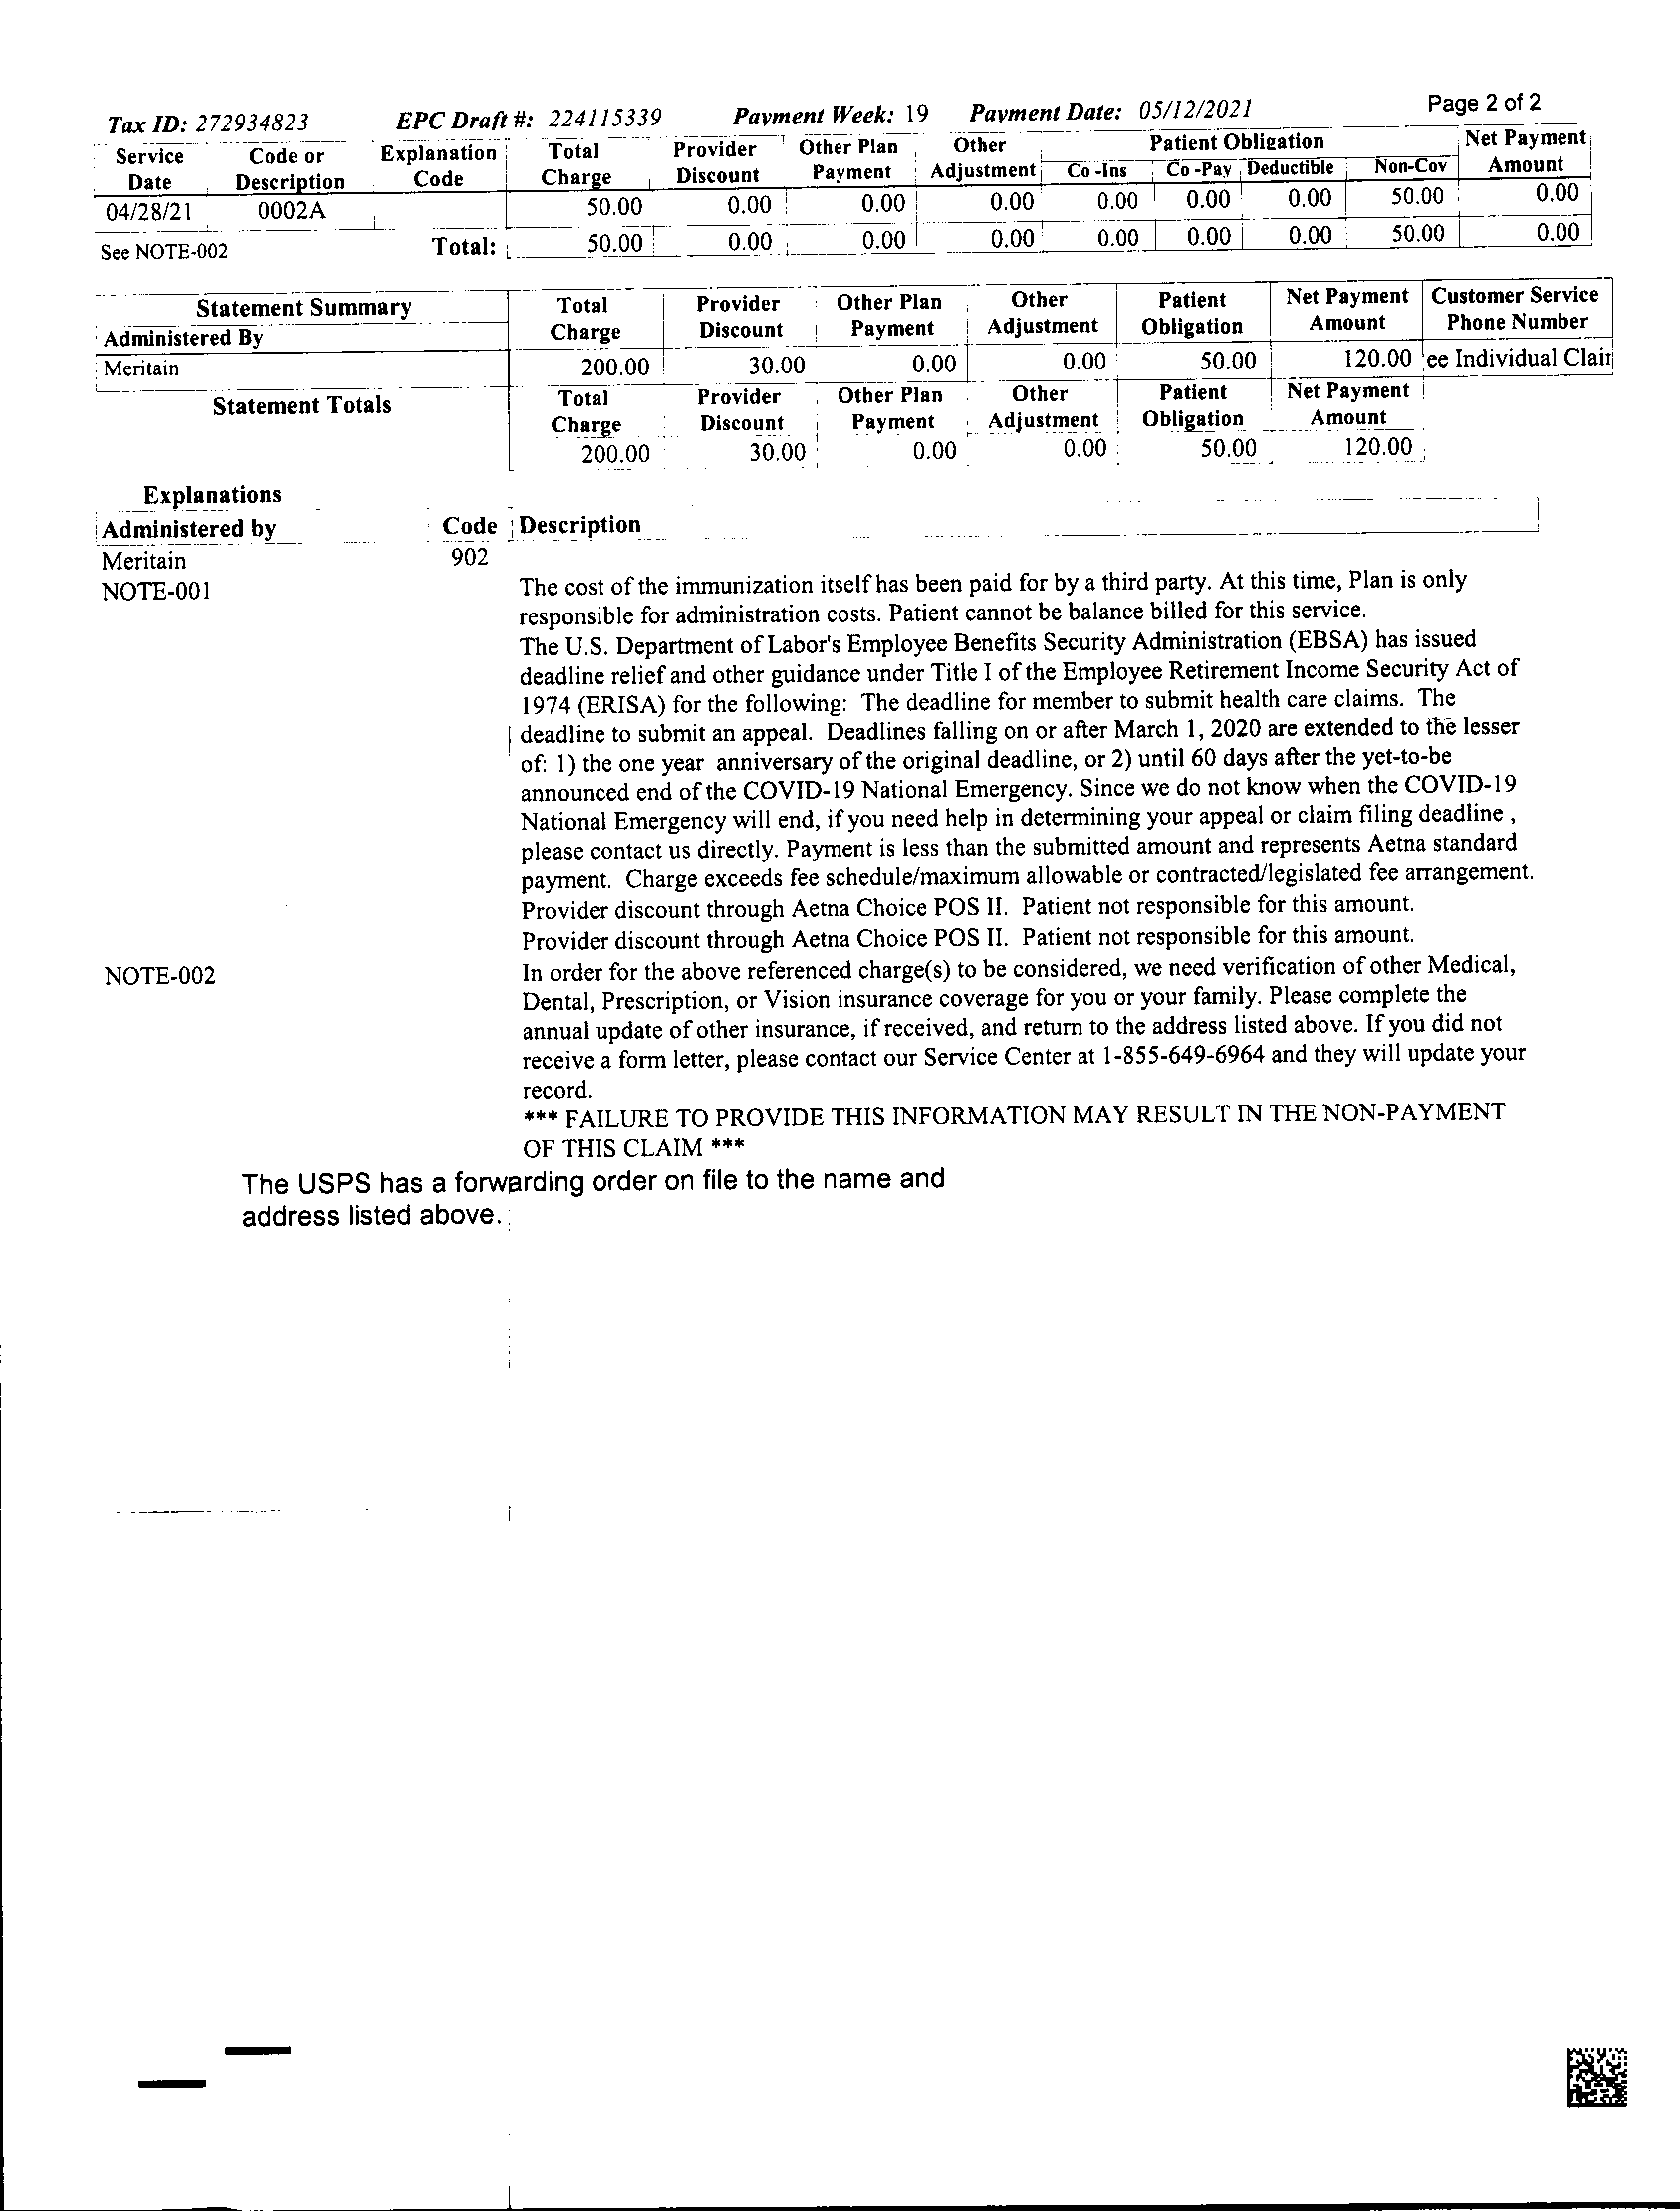table: (88, 281, 1624, 466), (79, 95, 1606, 272)
